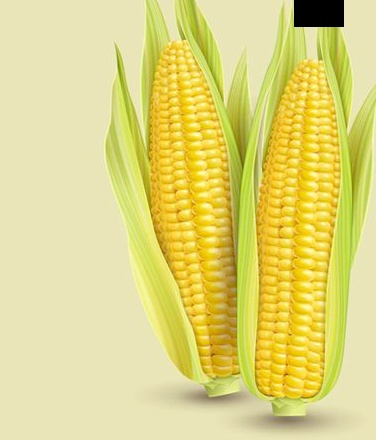corn: (136, 1, 256, 402), (241, 25, 356, 414)
